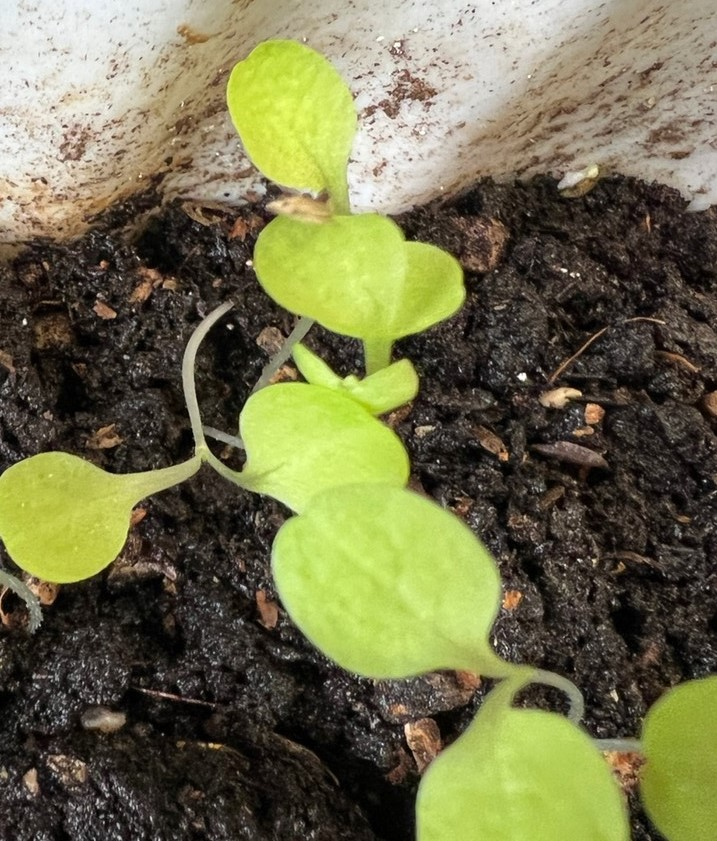week2: (259, 488, 543, 699), (402, 638, 643, 841), (182, 357, 428, 539), (221, 184, 425, 366), (191, 37, 384, 221), (1, 442, 235, 584)
